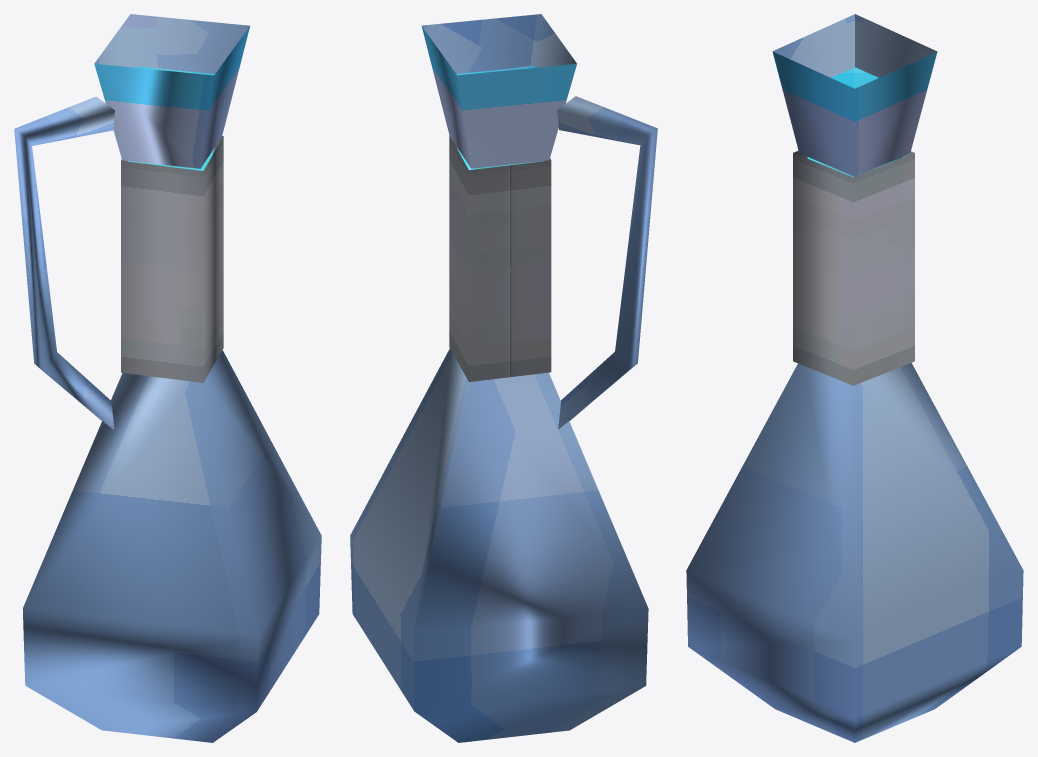
File: edb_con_tankard_full_l2.fbx
3 renders of one model, left to right at view 1: azimuth 30°, elevation 25°; view 2: azimuth 150°, elevation 25°; view 3: azimuth 270°, elevation 25°, orthographic.
Visible parts, largest first — view 1: mesh_node; view 2: mesh_node; view 3: mesh_node.
Boxes of the visible parts, x1,y1,x2,y2 form: mesh_node: (14, 14, 321, 742); mesh_node: (350, 14, 657, 742); mesh_node: (686, 14, 1023, 742).
Size of the model in its own units: 0.1671 by 0.3532 by 0.1641.
